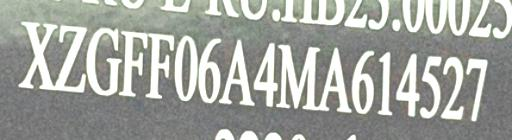letter: (274, 42, 320, 110), (18, 20, 56, 91), (218, 38, 258, 104), (86, 21, 120, 96), (316, 45, 354, 111), (53, 24, 87, 92), (117, 28, 149, 99), (145, 31, 175, 100), (348, 48, 376, 113), (251, 39, 277, 105), (394, 50, 420, 115), (439, 55, 465, 118), (174, 34, 198, 102), (196, 35, 220, 103), (464, 56, 488, 120), (420, 53, 442, 119), (376, 48, 396, 114)
